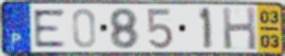0: (71, 7, 98, 49)
1: (196, 6, 215, 51)
5: (145, 7, 175, 51)
8: (108, 6, 142, 50)
E: (31, 7, 68, 49)
H: (220, 5, 259, 52)
